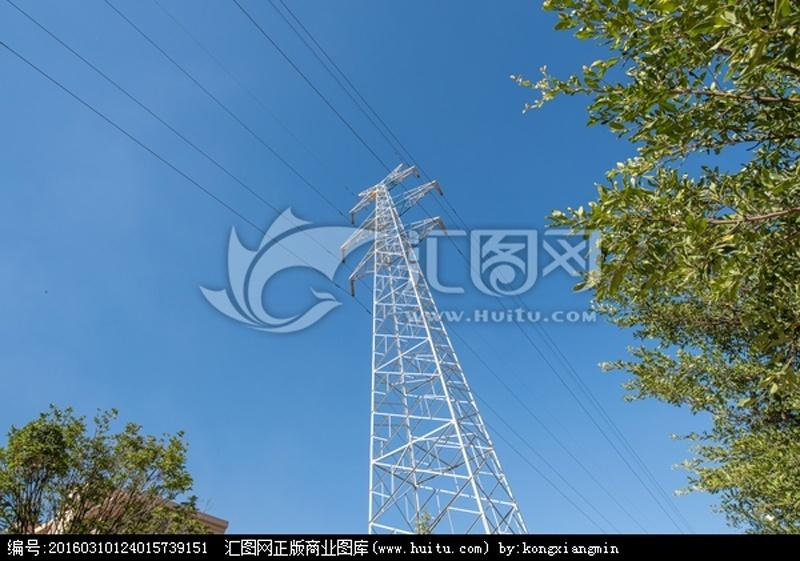power_tower: (326, 176, 528, 532)
